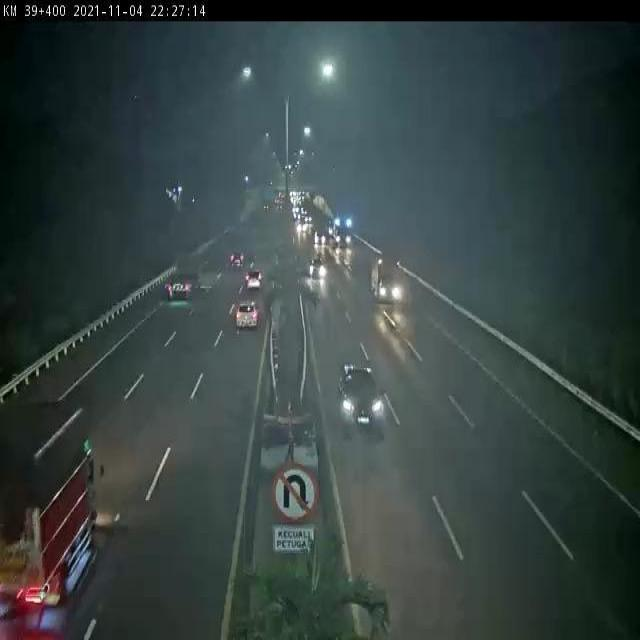car: (337, 364, 385, 440), (236, 304, 259, 328), (308, 256, 324, 281), (246, 268, 262, 291), (226, 249, 245, 267)
truck-m-: (0, 407, 99, 601), (167, 250, 199, 298), (370, 252, 402, 300)
